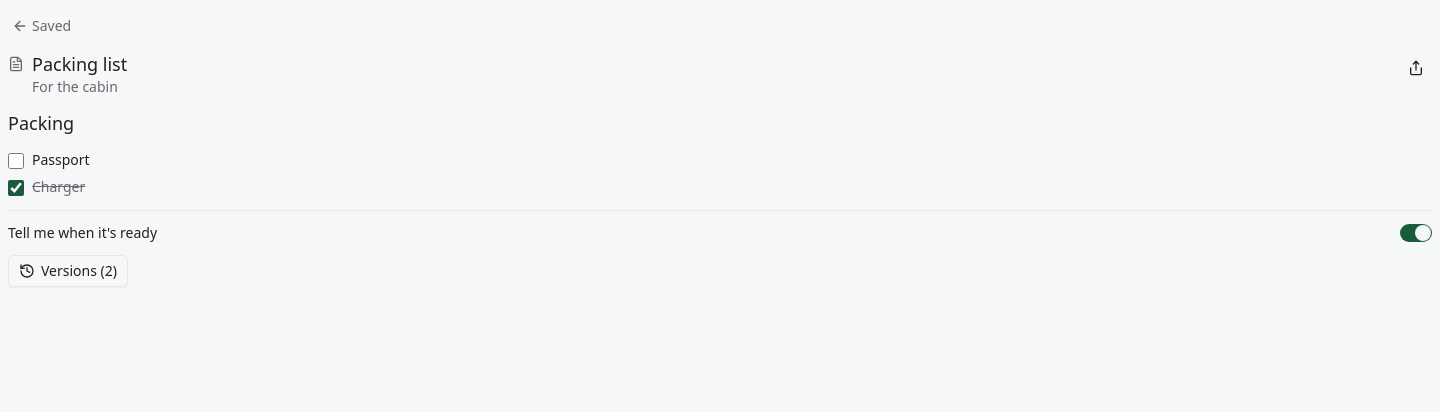
Test: ArtifactView › reads an older version and restores it
Click the button "Versions (2)" at (68, 271), box top-left (8, 255), bottom-right (128, 287)
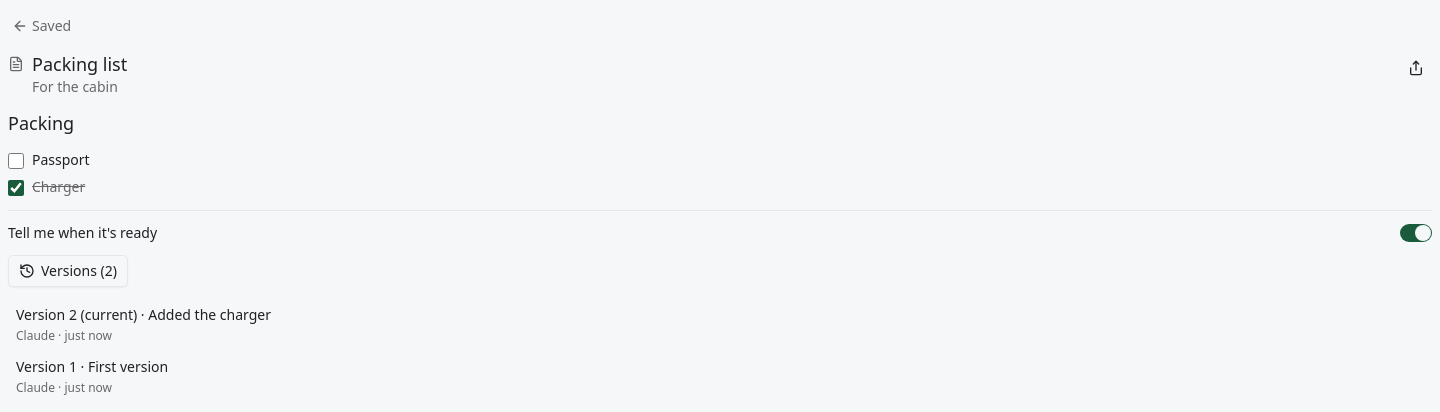
Click the text "Version 1 · First version" at (92, 367), box top-left (16, 357), bottom-right (168, 376)
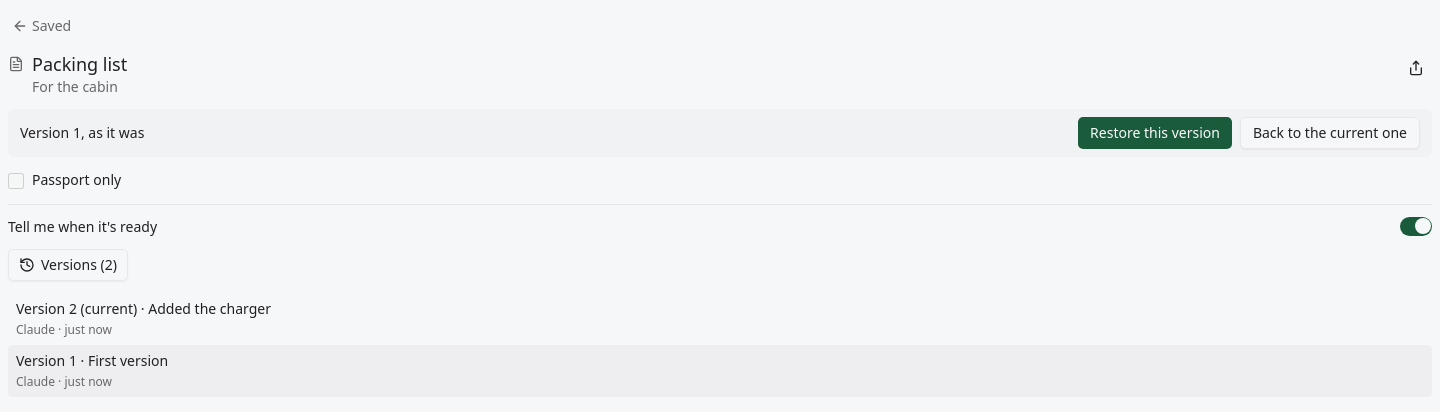
Check: the text "Version 1, as it was" is shown, box top-left (20, 123), bottom-right (144, 142)
Check: the checkbox labelled "Passport only" is disabled, box top-left (8, 173), bottom-right (24, 189)
Click the button "Restore this version" at (1155, 133), box top-left (1078, 117), bottom-right (1232, 149)
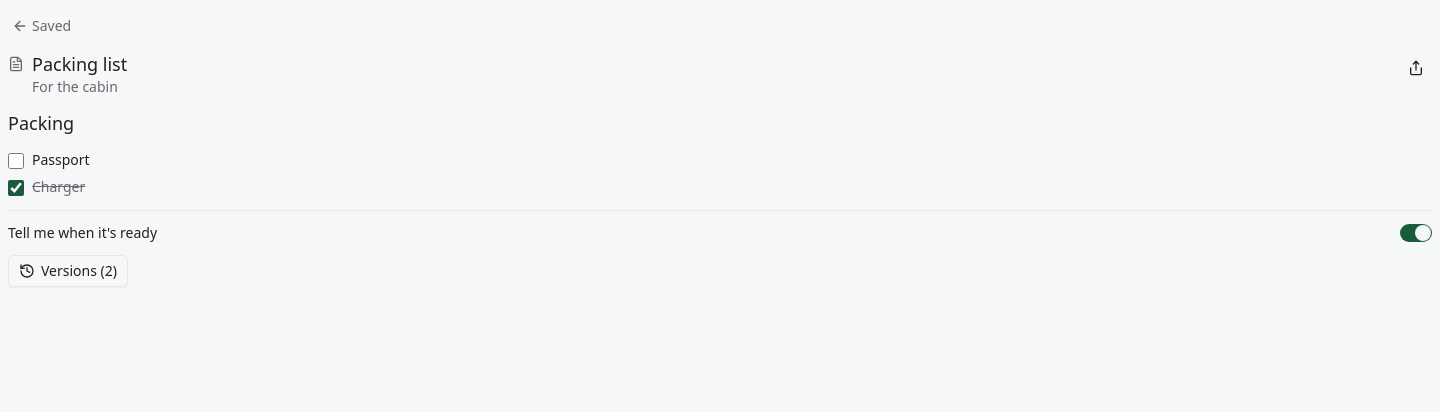
Check: the text "Version 1, as it was" is gone
